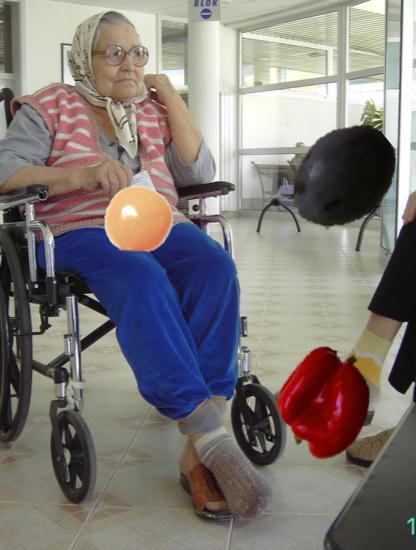Pepper: (275, 350, 379, 454)
Physalis: (104, 183, 175, 254)
Plum: (285, 119, 401, 235)
